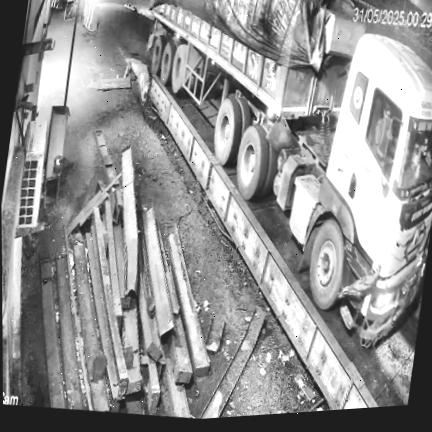tyre: (310, 219, 344, 310), (237, 125, 269, 200), (214, 97, 241, 166), (261, 145, 278, 197), (161, 40, 177, 85), (172, 45, 187, 93), (150, 36, 165, 76), (237, 98, 252, 137)
